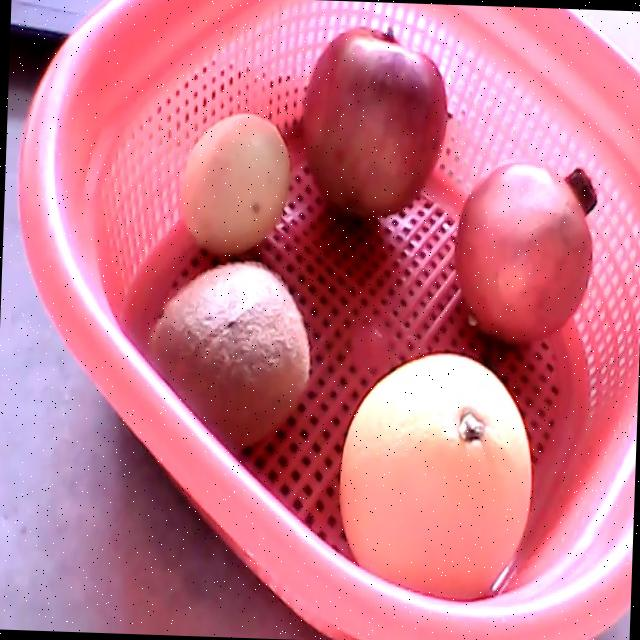apple: (301, 26, 449, 218), (454, 161, 598, 344)
kiwi: (146, 261, 309, 453)
lemon: (179, 114, 292, 256)
orange: (339, 351, 532, 601)
